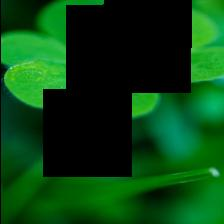green: (6, 0, 224, 224)
